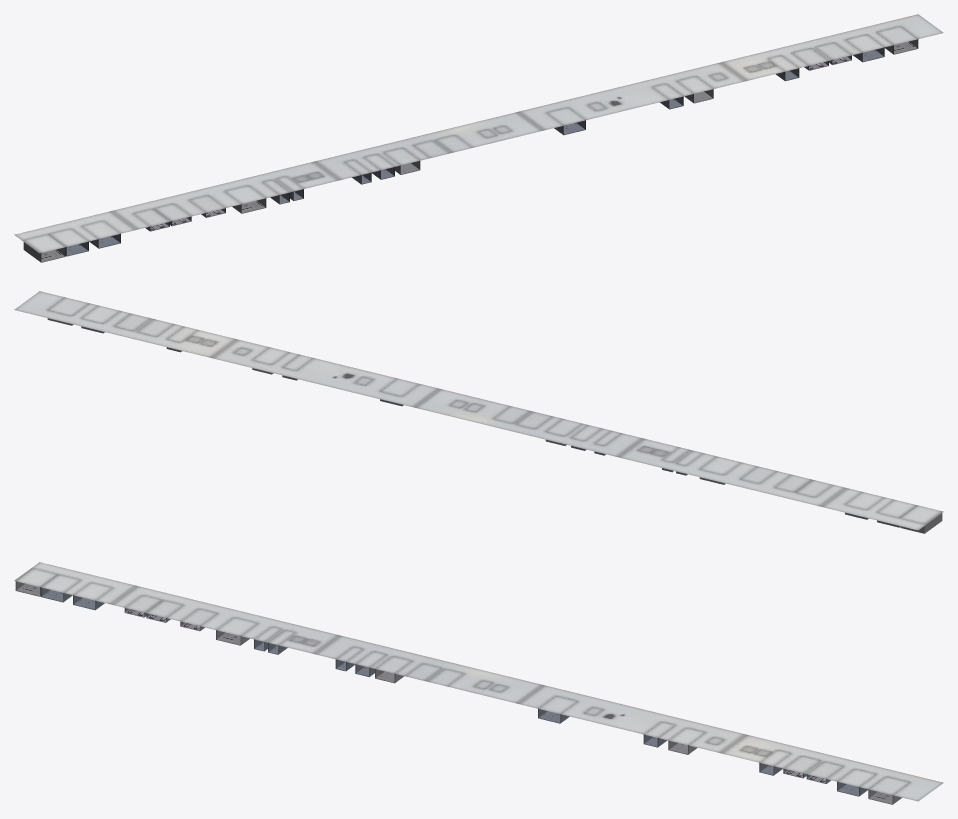
The model's file is murhaut_ar_bab.fbx.
3 views of the same model, one above another, from view 1: azimuth 30°, elevation 25°; view 2: azimuth 150°, elevation 25°; view 3: azimuth 330°, elevation 25° (orthographic).
Visible parts, largest first — view 1: ShapeIndexedFaceSet, ShapeIndexedFaceSet_005, ShapeIndexedFaceSet_001; view 2: ShapeIndexedFaceSet; view 3: ShapeIndexedFaceSet, ShapeIndexedFaceSet_001, ShapeIndexedFaceSet_005.
Boxes of the visible parts, box(x1,y1,x2,y2) form: ShapeIndexedFaceSet: box(14, 14, 943, 253); ShapeIndexedFaceSet_005: box(23, 39, 918, 262); ShapeIndexedFaceSet_001: box(65, 47, 884, 256); ShapeIndexedFaceSet: box(14, 291, 943, 530); ShapeIndexedFaceSet: box(14, 562, 943, 801); ShapeIndexedFaceSet_001: box(41, 587, 868, 796); ShapeIndexedFaceSet_005: box(15, 581, 901, 804).
Bounding box in the file's own units: 58.98 × 0.6 × 2.9.
